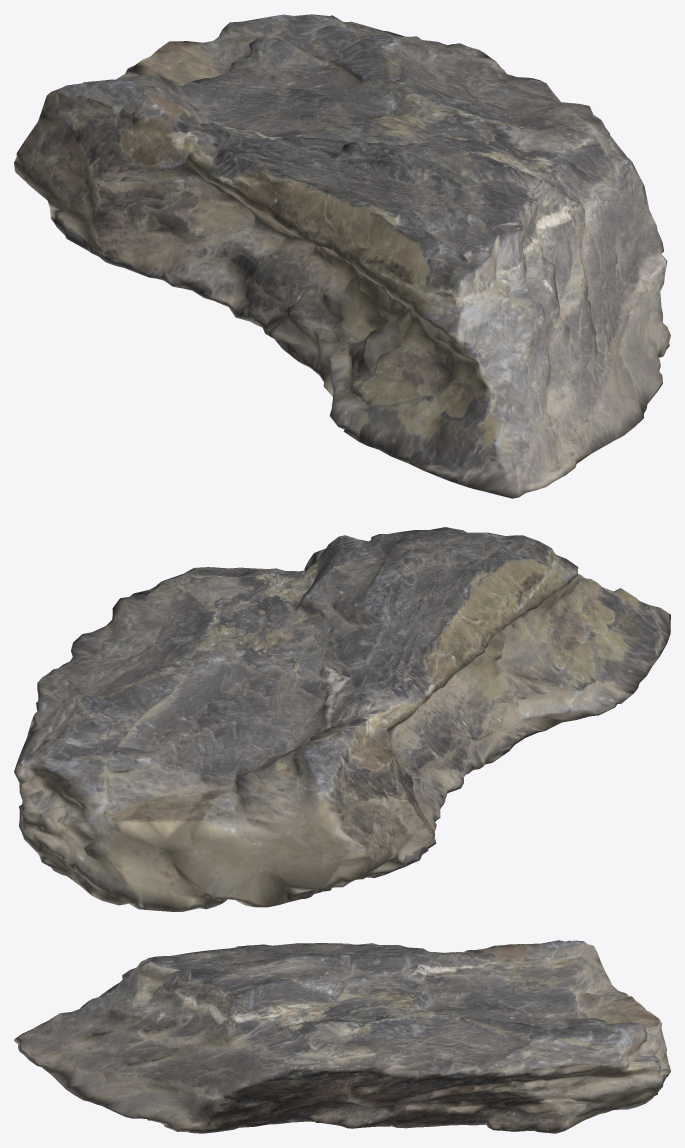
The model's file is slab_b.glb.
3 renders of one model, top to bottom at view 1: azimuth 30°, elevation 25°; view 2: azimuth 150°, elevation 25°; view 3: azimuth 270°, elevation 25°, orthographic. The views are drawn at different scales.
Visible parts, largest first — view 1: slab_b; view 2: slab_b; view 3: slab_b.
Boxes of the visible parts, x1,y1,x2,y2 form: slab_b: [14, 14, 670, 498]; slab_b: [14, 527, 670, 911]; slab_b: [14, 940, 670, 1133].
Bounding box in the file's own units: 4.44 × 1.7 × 8.6.
1 material, 1 textured.
